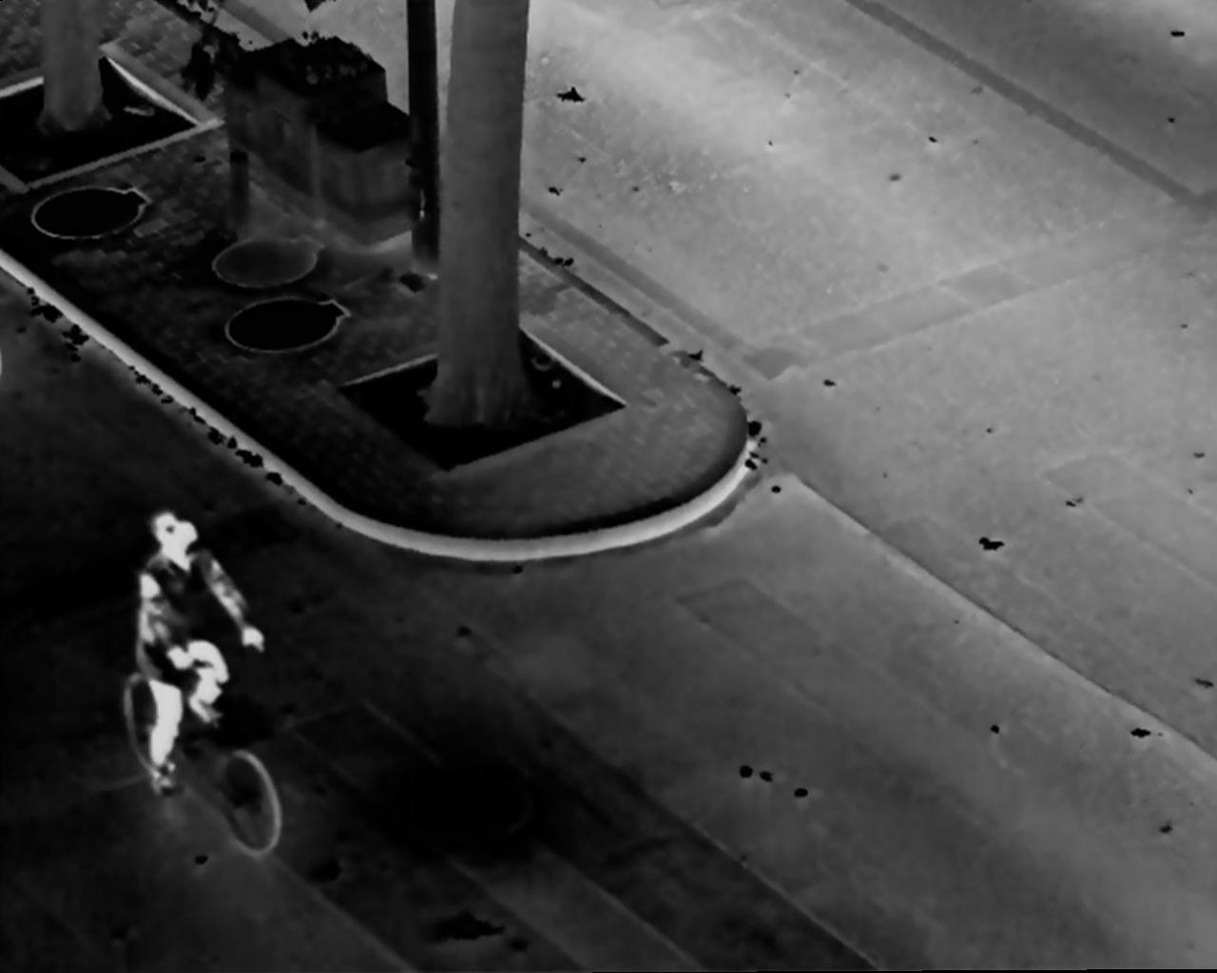person: (122, 508, 264, 834)
